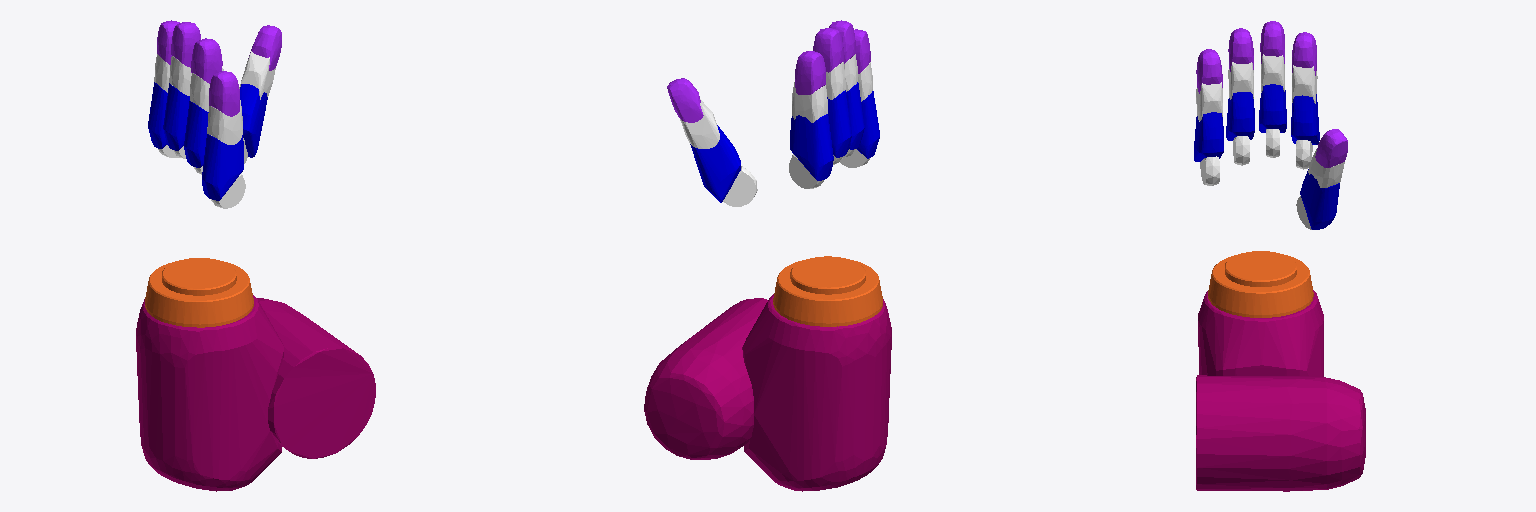
--- Render facts (derived) ---
3 views of the same robot in one strip: view 1: azimuth 30°, elevation 25°; view 2: azimuth 150°, elevation 25°; view 3: azimuth 270°, elevation 25° (orthographic).
Model hithand with 30 links and 29 joints (27 revolute, 2 fixed), rooted at base, posed all joints at 0.
Links seen in each view (by area): view 1: link_6, link_7, Right_Little_Phaprox, Right_Thumb_Phaprox, Right_Middle_Phaprox, Right_Ring_Phaprox, Right_Little_Phadist, Right_Ring_Phadist, Right_Little_Phamed, Right_Middle_Phadist, Right_Thumb_Phamed, Right_Index_Phaprox (+5 smaller); view 2: link_6, link_7, Right_Index_Phaprox, Right_Thumb_Phaprox, Right_Middle_Phaprox, Right_Index_Phadist, Right_Thumb_Phadist, Right_Thumb_Phamed, Right_Index_Phamed, Right_Middle_Phadist, Right_Little_Phaprox, Right_Thumb_Basecover (+5 smaller); view 3: link_6, link_7, Right_Thumb_Phaprox, Right_Little_Phaprox, Right_Index_Phaprox, Right_Ring_Phaprox, Right_Middle_Phaprox, Right_Thumb_Phadist, Right_Little_Phadist, Right_Ring_Phadist, Right_Index_Phadist, Right_Middle_Phadist (+5 smaller).
Boxes of the visible links, x1,y1,x2,y2 form: link_6: (136, 295, 375, 491); link_7: (145, 258, 253, 327); Right_Little_Phaprox: (202, 134, 243, 200); Right_Thumb_Phaprox: (240, 84, 267, 157); Right_Middle_Phaprox: (163, 83, 189, 150); Right_Ring_Phaprox: (184, 101, 208, 167); Right_Little_Phadist: (209, 71, 239, 116); Right_Ring_Phadist: (191, 38, 222, 83); Right_Little_Phamed: (207, 100, 242, 144); Right_Middle_Phadist: (171, 22, 200, 67); Right_Thumb_Phamed: (239, 51, 275, 99); Right_Index_Phaprox: (148, 82, 167, 148); link_6: (644, 294, 891, 491); link_7: (773, 256, 882, 326); Right_Index_Phaprox: (790, 114, 833, 180); Right_Thumb_Phaprox: (690, 125, 740, 202); Right_Middle_Phaprox: (827, 90, 851, 157); Right_Index_Phadist: (795, 51, 825, 94); Right_Thumb_Phadist: (667, 78, 703, 122); Right_Thumb_Phamed: (680, 99, 719, 148); Right_Index_Phamed: (792, 82, 827, 122); Right_Middle_Phadist: (813, 28, 843, 72); Right_Little_Phaprox: (856, 91, 879, 158); Right_Thumb_Basecover: (723, 166, 757, 206); link_6: (1196, 290, 1365, 491); link_7: (1208, 251, 1313, 317); Right_Thumb_Phaprox: (1300, 169, 1339, 229); Right_Little_Phaprox: (1194, 112, 1223, 161); Right_Index_Phaprox: (1291, 94, 1319, 144); Right_Ring_Phaprox: (1226, 92, 1254, 140); Right_Middle_Phaprox: (1259, 84, 1286, 132); Right_Thumb_Phadist: (1315, 129, 1347, 167); Right_Little_Phadist: (1196, 49, 1222, 93); Right_Ring_Phadist: (1228, 28, 1253, 71); Right_Index_Phadist: (1292, 32, 1316, 75); Right_Middle_Phadist: (1260, 21, 1284, 63).
Bounding box of the posed robot: 0.1879 × 0.1467 × 0.4159 m (x, y, z).
22 mesh visuals loaded from 13 distinct referenced files (4 binary STL, 2 OBJ); not drawn: 7 (reference not matched to a file when rendering).

robot.urdf — hithand:
<?xml version="1.0" encoding="utf-8"?>
<!-- =================================================================================== -->
<!-- |    This document was autogenerated by xacro from src/hithand_description/urdf/hithand.urdf.xacro | -->
<!-- |    EDITING THIS FILE BY HAND IS NOT RECOMMENDED                                 | -->
<!-- =================================================================================== -->
<robot name="hithand">


  <material name="white">
    <color rgba="1.0 1.0 1.0 1.0"/>
  </material>

  <material name="lightblue">
    <color rgba="0.0 0.0 1.0 1.0"/>
  </material>

  <material name="random">
    <color rgba="0.7 0.2 1.0 1.0"/>
  </material>

  <material name="grey">
    <color rgba="0.0 1.0 1.0 1.0"/>
  </material>

  <material name="purple">
    <color rgba="0.929 0.176 0.918 1.0"/>
  </material>

  <material name="orange">
    <color rgba="0.969 0.459 0.18 1.0"/>
  </material>

  <material name="dark_pink">
    <color rgba="0.69 0.047 0.463 1.0"/>
  </material>

  <material name="dark_yellow">
    <color rgba="1 0.87 0 1.0"/>
  </material>

  <material name="forest_green">
    <color rgba="0.208 0.51 0.122 1.0"/>
  </material>

  <material name="lime">
    <color rgba="0.749 1.0 0.0 1.0"/>
  </material>

  <material name="diyyu">
    <color rgba="0.255 0.278 0.502 1.0"/>
  </material>

  <material name="diyyu">
    <color rgba="0.255 0.278 0.502 1.0"/>
  </material>

  <!--DIANA 7 -->
 <link
    name="base">
    <inertial>
      <origin
        xyz="0.00153097191906452 0.00152031034664837 0.0524230280849149"
        rpy="0 0 0" />
      <mass
        value="1.33110743457779" />
      <inertia
        ixx="0.00695879790529406"
        ixy="9.99328685258342E-05"
        ixz="7.99577031212481E-05"
        iyy="0.00695365531716522"
        iyz="7.90796997368543E-05"
        izz="0.00729823323321907" />
    </inertial>
    <visual>
      <origin
        xyz="0 0 0"
        rpy="0 0 0" />
      <geometry>
        <mesh
          filename="./meshes/visual/obj/base.obj" />
      </geometry>
      <material
        name="">
        <color
          rgba="0.796078431372549 0.823529411764706 0.937254901960784 1" />
      </material>
    </visual>
    <collision>
      <origin
        xyz="0 0 0"
        rpy="0 0 0" />
      <geometry>
        <mesh
          filename="./meshes/collision/base.obj" />
      </geometry>
    </collision>
  </link>
  <joint
    name="joint_1"
    type="revolute">
    <origin
      xyz="0.0 -1.17155078368e-10 0.2856"
      rpy="-3.1415926531795866 0.0 -0.0" />
    <parent
      link="base" />
    <child
      link="link_1" />
    <axis
      xyz="0 0 1" />
    <limit
      lower="-3.12"
      upper="3.12"
      effort="235"
      velocity="2.618" />
  </joint>
  <link
    name="link_1">
    <inertial>
      <origin
        xyz="5.5234067920554E-05  -0.0254878204920178 0.0355441421264809"
        rpy="0 0 0" />
      <mass
        value="1.09025546409174" />
      <inertia
        ixx="0.00585031196428369"
        ixy="1.4630349447555E-07"
        ixz="1.35351687162397E-06"
        iyy="0.00645496952227061"
        iyz="-0.00104800484741808"
        izz="0.00459531291521244" />
    </inertial>
    <visual>
      <origin
        xyz="0 0 0"
        rpy="3.1415926531795866 0 0" />
      <geometry>
        <mesh
          filename="./meshes/visual/obj/link_1.obj" />
      </geometry>
      <material name="lime"/>
    </visual>
    <collision>
      <origin
        xyz="0 0 0"
        rpy="3.1415926531795866 0 0" />
      <geometry>
        <mesh
          filename="./meshes/collision/link_1.obj" />
      </geometry>
    </collision>
  </link>
  <joint
    name="joint_2"
    type="revolute">
    <origin
      xyz="-0.0002176275284 -2.18205115154e-05 8.97224123713e-09"
      rpy="1.5703851426777635 -0.0012519417971657146 5.147784771073438e-07" />
    <parent
      link="link_1" />
    <child
      link="link_2" />
    <axis
      xyz="0 0 1" />
    <limit
      lower="-1.57"
      upper="1.57"
      effort="235"
      velocity="2.618" />
  </joint>
  <link
    name="link_2">
    <inertial>
      <origin
        xyz="-3.62724763868157E-06 -0.0292741005087307 -0.041280769252073"
        rpy="0 0 0" />
      <mass
        value="1.09515454908799" />
      <inertia
        ixx="0.00575817488413533"
        ixy="4.92454490330888E-07"
        ixz="-5.75758988171004E-07"
        iyy="0.00452592941277235"
        iyz="0.00135206824645357"
        izz="0.0058904584276842" />
    </inertial>
    <visual>
      <origin
        xyz="0 0 0"
        rpy="0 0 0" />
      <geometry>
        <mesh
          filename="./meshes/visual/obj/link_2.obj" />
      </geometry>
      <material name="diyyu"/>
    </visual>
    <collision>
      <origin
        xyz="0 0 0"
        rpy="0 0 0" />
      <geometry>
        <mesh
          filename="./meshes/collision/link_2.obj" />
      </geometry>
    </collision>
  </link>
  <joint
    name="joint_3"
    type="revolute">
    <origin
      xyz="0.0004072688416 -0.459015056411 0.000194925439719"
      rpy="-1.571220988654708 -0.00279160624928537 1.1854872331797917e-06" />
    <parent
      link="link_2" />
    <child
      link="link_3" />
    <axis
      xyz="0 0 1" />
    <limit
      lower="-3.12"
      upper="3.12"
      effort="111"
      velocity="3.1416" />
  </joint>
  <link
    name="link_3">
    <inertial>
      <origin
        xyz="0.0114318213510691 -0.0101707598694861 0.15131695375217"
        rpy="0 3.1415926531795866 3.1415926531795866" />
      <mass
        value="2.01686690128149" />
      <inertia
        ixx="0.0362470020041464"
        ixy="-0.00099203786071914"
        ixz="-0.00494440140493448"
        iyy="0.0374857206758098"
        iyz="-0.00313859974095155"
        izz="0.00905850119342719" />
    </inertial>
    <visual>
      <origin
        xyz="0 0 0"
        rpy="3.1415926531795866 0 0" />
      <geometry>
        <mesh
          filename="./meshes/visual/obj/link_3.obj" />
      </geometry>
      <material name="forest_green"/>
    </visual>
    <collision>
      <origin
        xyz="0 0 0"
        rpy="3.1415926531795866 0 0" />
      <geometry>
        <mesh
          filename="./meshes/collision/link_3.obj" />
      </geometry>
    </collision>
  </link>
  <joint
    name="joint_4"
    type="revolute">
    <origin
      xyz="0.06500794501 0.000103518147087 1.93732356492e-08"
      rpy="1.5709834818249642 0.008540154910439246 1.598313538907085e-06" />
    <parent
      link="link_3" />
    <child
      link="link_4" />
    <axis
      xyz="0 0 1" />
    <limit
      lower="0"
      upper="3.05"
      effort="111"
      velocity="3.1416" />
  </joint>
  <link
    name="link_4">
    <inertial>
      <origin
        xyz="-0.0240716370537192 -0.0235631728011761 -0.0366858174253844"
        rpy="0 0 0" />
      <mass
        value="0.849743349506889" />
      <inertia
        ixx="0.00313444335639628"
        ixy="-0.000681243351041131"
        ixz="0.000725380047812207"
        iyy="0.00333717642442852"
        iyz="0.000771057559109157"
        izz="0.0034847726349841" />
    </inertial>
    <visual>
      <origin
        xyz="0 0 0"
        rpy="0 0 0" />
      <geometry>
        <mesh
          filename="./meshes/visual/obj/link_4.obj" />
      </geometry>
      <material name="dark_yellow"/>
    </visual>
    <collision>
      <origin
        xyz="0 0 0"
        rpy="0 0 0" />
      <geometry>
        <mesh
          filename="./meshes/collision/link_4.obj" />
      </geometry>
    </collision>
  </link>
  <joint
    name="joint_5"
    type="revolute">
    <origin
      xyz="-0.05295089994 -0.455500545868 0.000686638534383"
      rpy="-1.572303766948931 0.0022889413393391476 -3.4504416857473587e-06" />
    <parent
      link="link_4" />
    <child
      link="link_5" />
    <axis
      xyz="0 0 1" />
    <limit
      lower="-3.12"
      upper="3.12"
      effort="54"
      velocity="2.618" />
  </joint>v
  <link
    name="link_5">
    <inertial>
      <origin
        xyz="-0.00867148011164554 0.0383499684802812 0.188626"
        rpy="0 3.1415926531795866 3.1415926531795866" />
      <mass
        value="1.20580396965245" />
      <inertia
        ixx="0.0218436427570802"
        ixy="-0.000309747330693722"
        ixz="0.00089039094846826"
        iyy="0.0205896836785318"
        iyz="0.00493573923914426"
        izz="0.00372270106038425" />
    </inertial>
    <visual>
      <origin
        xyz="0 0 -0.02162"
        rpy="3.1415926531795866 0 0" />
      <geometry>
        <mesh
          filename="./meshes/visual/obj/link_5.obj" />
      </geometry>
      <material name="purple"/>
    </visual>
    <collision>
      <origin
        xyz="0 0 -0.02162"
        rpy="3.1415926531795866 0 0" />
      <geometry>
        <mesh
          filename="./meshes/collision/link_5.obj" />
      </geometry>
    </collision>
  </link>
  <joint
    name="joint_6"
    type="revolute">
    <origin
      xyz="-0.01210201229 7.41738015685e-05 -1.37878866505e-08"
      rpy="1.5709822134347438 0.0021627565524277212 -3.1415922515625536" />
    <parent
      link="link_5" />
    <child
      link="link_6" />
    <axis
      xyz="0 0 1" />
    <limit
      lower="-3.12"
      upper="0.52"
      effort="54"
      velocity="2.618" />
  </joint>
  <link
    name="link_6">
    <inertial>
      <origin
        xyz="0.045897226241036 0.00848579821002571 -0.0078257811617596"
        rpy="0 3.1415926531795866 3.1415926531795866" />
      <mass
        value="0.847157564562275" />
      <inertia
        ixx="0.00286926864109097"
        ixy="-0.000341664135091818"
        ixz="-0.000318082297486923"
        iyy="0.0043294660443987"
        iyz="-5.82962380662208E-05"
        izz="0.00437292566725527" />
    </inertial>
    <visual>
      <origin
        xyz="0 0 0"
        rpy="3.1415926531795866 0 3.14159265359" />
      <geometry>
        <mesh
          filename="./meshes/visual/obj/link_6.obj" />
      </geometry>
      <material name="dark_pink"/>
    </visual>
    <collision>
      <origin
        xyz="0 0 0"
        rpy="3.1415926531795866 0 3.14159265359" />
      <geometry>
        <mesh
          filename="./meshes/collision/link_6.obj" />
      </geometry>
    </collision>
  </link>
  <joint
    name="joint_7"
    type="revolute">
    <origin
      xyz="0.08675887782 -0.116899805485 0.000213254730695"
      rpy="-1.572620577 0.0 -0.0" />
    <parent
      link="link_6" />
    <child
      link="link_7" />
    <axis
      xyz="0 0 1" />
    <limit
      lower="-3.12"
      upper="3.12"
      effort="54"
      velocity="3.1416" />
  </joint>
  <link
    name="link_7">
    <inertial>
      <origin
        xyz="0.00117005127509708 5.03191940906655E-06 0.0151381784822231"
        rpy="0 0 0" />
      <mass
        value="0.233956150459573" />
      <inertia
        ixx="0.000142027360977168"
        ixy="1.76426389345981E-08"
        ixz="2.14635741626268E-07"
        iyy="0.000134421724783865"
        iyz="-1.29988689037464E-09"
        izz="0.000240242798572463" />
    </inertial>
    <visual>
      <origin
        xyz="0 0 0"
        rpy="0 0 0" />
      <geometry>
        <mesh
          filename="./meshes/visual/obj/link_7.obj" />
      </geometry>
      <material name="orange"/>
    </visual>
    <collision>
      <origin
        xyz="0 0 0"
        rpy="0 0 0" />
      <geometry>
        <mesh
          filename="./meshes/collision/link_7.obj" />
      </geometry>
    </collision>
  </link>
  <!--AR HAND -->
  <joint name="fixed" type="fixed">
    <parent link="link_7"/>
    <child link="base_link_hithand"/>
    <origin rpy="0 3.14 0" xyz="0 0 0"/>
  </joint>
  <!-- ++++ Define all the links and joints ++++ -->
  <!-- Starting from the base -->
  <link name="base_link_hithand">
    <inertial>
      <origin rpy="0 0 0" xyz="0.0112 0.0 0.0566"/>
      <mass value="1.1485"/>
      <inertia ixx="2.2458e-3" ixy="-2.7421e-4" ixz="1.6e-5" iyy="2.2203e-3" iyz="-6.37e-5" izz="1.9003e-3"/>
    </inertial>
    <visual>
      <origin rpy="-1.57 0 0" xyz="0 0 0"/>
      <geometry>
        <mesh filename="./meshes/collision/palm/right_palm.stl"/>
      </geometry>
      <material name="grey"/>
    </visual>
    <collision>
      <origin rpy="-1.57 0 0" xyz="0 0 0"/>
      <geometry>
        <mesh filename="./meshes/collision/palm/right_palm.stl"/>
      </geometry>
    </collision>
  </link>
  <!-- Add a virtual palm link to get the transform of this point via TF for grasping (we align this frame with
        a normal of a point from an object point cloud.) -->
  <joint name="hithand_palm_joint" type="fixed">
    <parent link="base_link_hithand"/>
    <child link="palm_link_hithand"/>
    <origin rpy="-0.15 -1.3 0" xyz="0.02 0 0.06"/>
  </joint>
  <link name="palm_link_hithand"/>
  <!-- #########################FINGER######################## -->
  <!-- END of finger macro -->
  <!-- +++++ Finger base joint 0 ++++++ -->
  <joint name="Right_Thumb_0" type="revolute">
    <!-- joint origin in parent link frame -->
    <origin rpy="0.225810 -1.083656 0.411355" xyz="0.06217593 0.044372912 0.078734808"/>
    <parent link="base_link_hithand"/>
    <child link="Right_Thumb_Basecover"/>
    <axis xyz="0 0 1"/>
    <limit effort="15" lower="-0.261799" upper="0.261799" velocity="3.14"/>
    <dynamics damping="0.5" friction="0"/>
  </joint>
  <link name="Right_Thumb_Basecover">
    <inertial>
      <origin rpy="0 0 0" xyz="0.02749 0 0"/>
      <mass value="0.0176"/>
      <inertia ixx="1.3450e-6" ixy="0.0" ixz="-1.8183e-7" iyy="1.9874e-6" iyz="0.0" izz="1.0419e-6"/>
    </inertial>
    <visual>
      <origin rpy="0 0 0" xyz="0 0 0"/>
      <geometry>
        <mesh filename="./meshes/collision/finger/hit-hand-2-finger-basecover.stl"/>
      </geometry>
      <material name="white"/>
    </visual>
    <collision>
      <origin rpy="0 0 0" xyz="0 0 0"/>
      <geometry name="hithand_Thumb_base_cover">
        <cylinder length="0.001" radius="0.001"/>
      </geometry>
    </collision>
  </link>
  <!-- +++++ Finger joint 1, Link: Phalanx proximalis ++++++ -->
  <joint name="Right_Thumb_1" type="revolute">
    <origin rpy="1.5708 0 0" xyz="0 0 0 "/>
    <parent link="Right_Thumb_Basecover"/>
    <child link="Right_Thumb_Phaprox"/>
    <axis xyz="0 0 1"/>
    <limit effort="1.15" lower="0.0" upper="1.48353" velocity="3.14"/>
    <!-- Effort limit based on max fingertip force of 10N. Finger tip is approx 11.5cm away from this joint.-->
    <dynamics damping="0.5" friction="0"/>
  </joint>
  <link name="Right_Thumb_Phaprox">
    <inertial>
      <origin rpy="0 0 0" xyz="0.03076 0.00297 0"/>
      <mass value="0.0232"/>
      <inertia ixx="2.5326e-6" ixy="-9.2551e-7" ixz="-4.0954e-8" iyy="6.9625e-6" iyz="-9.38e-9" izz="7.9108e-6"/>
    </inertial>
    <visual>
      <origin rpy="0 0 0" xyz="0 0 0"/>
      <geometry>
        <mesh filename="./meshes/collision/finger/hit-hand-2-finger-phaprox.stl"/>
      </geometry>
      <material name="lightblue"/>
    </visual>
    <collision>
      <origin rpy="0 0 0" xyz="0 0 0"/>
      <geometry>
        <mesh filename="./meshes/collision/finger/hit-hand-2-finger-phaprox.stl"/>
      </geometry>
    </collision>
  </link>
  <!-- +++++ Finger joint 2 Phalanx medialis ++++++ -->
  <joint name="Right_Thumb_2" type="revolute">
    <origin rpy="0 0 0" xyz="0.055 0 0"/>
    <parent link="Right_Thumb_Phaprox"/>
    <child link="Right_Thumb_Phamed"/>
    <axis xyz="0 0 1"/>
    <limit effort="0.6" lower="0.0" upper="1.13446" velocity="3.14"/>
    <!-- Effort limit based on max fingertip force of 10N. Finger tip is approx 6cm away from this joint.-->
    <dynamics damping="0.5" friction="0"/>
  </joint>
  <link name="Right_Thumb_Phamed">
    <inertial>
      <origin rpy="0 0 0" xyz="0.0097 -0.00036 0"/>
      <mass value="0.0158"/>
      <inertia ixx="1.1852e-6" ixy="-2.8845e-8" ixz="-6.1323e-9" iyy="2.4460e-6" iyz="2.4541e-9" izz="2.6537e-6"/>
    </inertial>
    <visual>
      <origin rpy="0 0 0" xyz="0 0 0"/>
      <geometry>
        <mesh filename="./meshes/collision/finger/hit-hand-2-finger-phamed.stl"/>
      </geometry>
      <material name="white"/>
    </visual>
    <collision>
      <origin rpy="0 0 0" xyz="0 0 0"/>
      <geometry>
        <mesh filename="./meshes/collision/finger/hit-hand-2-finger-phamed.stl"/>
      </geometry>
    </collision>
  </link>
  <!-- +++++ Finger joint 3 Phalanx distalis ++++++ -->
  <joint name="Right_Thumb_3" type="revolute">
    <origin rpy="0 0 -1.570796" xyz="0.025 0 0"/>
    <parent link="Right_Thumb_Phamed"/>
    <child link="Right_Thumb_Phadist"/>
    <axis xyz="0 0 1"/>
    <limit effort="0.35" lower="0.0" upper="1.13446" velocity="3.14"/>
    <!-- Effort limit based on max fingertip force of 10N. Finger tip is approx 3.5cm away from this joint.-->
    <dynamics damping="0.5" friction="0"/>
  </joint>
  <link name="Right_Thumb_Phadist">
    <inertial>
      <origin rpy="0 0 0" xyz="0.00072 0.00717 0.0"/>
      <mass value="0.0137"/>
      <inertia ixx="1.5519e-6" ixy="-2.037e-9" ixz="0.0" iyy="8.2972e-7" iyz="3.77e-9" izz="1.5788e-6"/>
    </inertial>
    <visual>
      <origin rpy="0 0 0" xyz="0 0 0"/>
      <geometry>
        <mesh filename="./meshes/collision/finger/hit-hand-2-finger-phadist.stl"/>
      </geometry>
      <material name="random"/>
    </visual>
    <collision>
      <origin rpy="0 0 0" xyz="0 0 0"/>
      <geometry>
        <mesh filename="./meshes/collision/finger/hit-hand-2-finger-phadist.stl"/>
      </geometry>
    </collision>
  </link>
  <!-- +++++ Finger base joint 0 ++++++ -->
  <joint name="Right_Index_0" type="revolute">
    <!-- joint origin in parent link frame -->
    <origin rpy="3.054326 -1.570796 0.000000" xyz="-0.002529881 0.03680013 0.107783545"/>
    <parent link="base_link_hithand"/>
    <child link="Right_Index_Basecover"/>
    <axis xyz="0 0 1"/>
    <limit effort="15" lower="-0.261799" upper="0.261799" velocity="3.14"/>
    <dynamics damping="0.5" friction="0"/>
  </joint>
  <link name="Right_Index_Basecover">
    <inertial>
      <origin rpy="0 0 0" xyz="0.02749 0 0"/>
      <mass value="0.0176"/>
      <inertia ixx="1.3450e-6" ixy="0.0" ixz="-1.8183e-7" iyy="1.9874e-6" iyz="0.0" izz="1.0419e-6"/>
    </inertial>
    <visual>
      <origin rpy="0 0 0" xyz="0 0 0"/>
      <geometry>
        <mesh filename="./meshes/collision/finger/hit-hand-2-finger-basecover.stl"/>
      </geometry>
      <material name="white"/>
    </visual>
    <collision>
      <origin rpy="0 0 0" xyz="0 0 0"/>
      <geometry name="hithand_Index_base_cover">
        <cylinder length="0.001" radius="0.001"/>
      </geometry>
    </collision>
  </link>
  <!-- +++++ Finger joint 1, Link: Phalanx proximalis ++++++ -->
  <joint name="Right_Index_1" type="revolute">
    <origin rpy="1.5708 0 0" xyz="0 0 0 "/>
    <parent link="Right_Index_Basecover"/>
    <child link="Right_Index_Phaprox"/>
    <axis xyz="0 0 1"/>
    <limit effort="1.15" lower="0.0" upper="1.48353" velocity="3.14"/>
    <!-- Effort limit based on max fingertip force of 10N. Finger tip is approx 11.5cm away from this joint.-->
    <dynamics damping="0.5" friction="0"/>
  </joint>
  <link name="Right_Index_Phaprox">
    <inertial>
      <origin rpy="0 0 0" xyz="0.03076 0.00297 0"/>
      <mass value="0.0232"/>
      <inertia ixx="2.5326e-6" ixy="-9.2551e-7" ixz="-4.0954e-8" iyy="6.9625e-6" iyz="-9.38e-9" izz="7.9108e-6"/>
    </inertial>
    <visual>
      <origin rpy="0 0 0" xyz="0 0 0"/>
      <geometry>
        <mesh filename="./meshes/collision/finger/hit-hand-2-finger-phaprox.stl"/>
      </geometry>
      <material name="lightblue"/>
    </visual>
    <collision>
      <origin rpy="0 0 0" xyz="0 0 0"/>
      <geometry>
        <mesh filename="./meshes/collision/finger/hit-hand-2-finger-phaprox.stl"/>
      </geometry>
    </collision>
  </link>
  <!-- +++++ Finger joint 2 Phalanx medialis ++++++ -->
  <joint name="Right_Index_2" type="revolute">
    <origin rpy="0 0 0" xyz="0.055 0 0"/>
    <parent link="Right_Index_Phaprox"/>
    <child link="Right_Index_Phamed"/>
    <axis xyz="0 0 1"/>
    <limit effort="0.6" lower="0.0" upper="1.13446" velocity="3.14"/>
    <!-- Effort limit based on max fingertip force of 10N. Finger tip is approx 6cm away from this joint.-->
    <dynamics damping="0.5" friction="0"/>
  </joint>
  <link name="Right_Index_Phamed">
    <inertial>
      <origin rpy="0 0 0" xyz="0.0097 -0.00036 0"/>
      <mass value="0.0158"/>
      <inertia ixx="1.1852e-6" ixy="-2.8845e-8" ixz="-6.1323e-9" iyy="2.4460e-6" iyz="2.4541e-9" izz="2.6537e-6"/>
    </inertial>
    <visual>
      <origin rpy="0 0 0" xyz="0 0 0"/>
      <geometry>
        <mesh filename="./meshes/collision/finger/hit-hand-2-finger-phamed.stl"/>
      </geometry>
      <material name="white"/>
    </visual>
    <collision>
      <origin rpy="0 0 0" xyz="0 0 0"/>
      <geometry>
        <mesh filename="./meshes/collision/finger/hit-hand-2-finger-phamed.stl"/>
      </geometry>
    </collision>
  </link>
  <!-- +++++ Finger joint 3 Phalanx distalis ++++++ -->
  <joint name="Right_Index_3" type="revolute">
    <origin rpy="0 0 -1.570796" xyz="0.025 0 0"/>
    <parent link="Right_Index_Phamed"/>
    <child link="Right_Index_Phadist"/>
    <axis xyz="0 0 1"/>
    <limit effort="0.35" lower="0.0" upper="1.13446" velocity="3.14"/>
    <!-- Effort limit based on max fingertip force of 10N. Finger tip is approx 3.5cm away from this joint.-->
    <dynamics damping="0.5" friction="0"/>
  </joint>
  <link name="Right_Index_Phadist">
    <inertial>
      <origin rpy="0 0 0" xyz="0.00072 0.00717 0.0"/>
      <mass value="0.0137"/>
      <inertia ixx="1.5519e-6" ixy="-2.037e-9" ixz="0.0" iyy="8.2972e-7" iyz="3.77e-9" izz="1.5788e-6"/>
    </inertial>
    <visual>
      <origin rpy="0 0 0" xyz="0 0 0"/>
      <geometry>
        <mesh filename="./meshes/collision/finger/hit-hand-2-finger-phadist.stl"/>
      </geometry>
      <material name="random"/>
    </visual>
    <collision>
      <origin rpy="0 0 0" xyz="0 0 0"/>
      <geometry>
        <mesh filename="./meshes/collision/finger/hit-hand-2-finger-phadist.stl"/>
      </geometry>
    </collision>
  </link>
  <!-- +++++ Finger base joint 0 ++++++ -->
  <joint name="Right_Middle_0" type="revolute">
    <!-- joint origin in parent link frame -->
    <origin rpy="-3.141593 -1.570796 0.000000" xyz="-0.0037 0.01  0.117783545"/>
    <parent link="base_link_hithand"/>
    <child link="Right_Middle_Basecover"/>
    <axis xyz="0 0 1"/>
    <limit effort="15" lower="-0.261799" upper="0.261799" velocity="3.14"/>
    <dynamics damping="0.5" friction="0"/>
  </joint>
  <link name="Right_Middle_Basecover">
    <inertial>
      <origin rpy="0 0 0" xyz="0.02749 0 0"/>
      <mass value="0.0176"/>
      <inertia ixx="1.3450e-6" ixy="0.0" ixz="-1.8183e-7" iyy="1.9874e-6" iyz="0.0" izz="1.0419e-6"/>
    </inertial>
    <visual>
      <origin rpy="0 0 0" xyz="0 0 0"/>
      <geometry>
        <mesh filename="./meshes/collision/finger/hit-hand-2-finger-basecover.stl"/>
      </geometry>
      <material name="white"/>
    </visual>
    <collision>
      <origin rpy="0 0 0" xyz="0 0 0"/>
      <geometry name="hithand_Middle_base_cover">
        <cylinder length="0.001" radius="0.001"/>
      </geometry>
    </collision>
  </link>
  <!-- +++++ Finger joint 1, Link: Phalanx proximalis ++++++ -->
  <joint name="Right_Middle_1" type="revolute">
    <origin rpy="1.5708 0 0" xyz="0 0 0 "/>
    <parent link="Right_Middle_Basecover"/>
    <child link="Right_Middle_Phaprox"/>
    <axis xyz="0 0 1"/>
    <limit effort="1.15" lower="0.0" upper="1.48353" velocity="3.14"/>
    <!-- Effort limit based on max fingertip force of 10N. Finger tip is approx 11.5cm away from this joint.-->
    <dynamics damping="0.5" friction="0"/>
  </joint>
  <link name="Right_Middle_Phaprox">
    <inertial>
      <origin rpy="0 0 0" xyz="0.03076 0.00297 0"/>
      <mass value="0.0232"/>
      <inertia ixx="2.5326e-6" ixy="-9.2551e-7" ixz="-4.0954e-8" iyy="6.9625e-6" iyz="-9.38e-9" izz="7.9108e-6"/>
    </inertial>
    <visual>
      <origin rpy="0 0 0" xyz="0 0 0"/>
      <geometry>
        <mesh filename="./meshes/collision/finger/hit-hand-2-finger-phaprox.stl"/>
      </geometry>
      <material name="lightblue"/>
    </visual>
    <collision>
      <origin rpy="0 0 0" xyz="0 0 0"/>
      <geometry>
        <mesh filename="./meshes/collision/finger/hit-hand-2-finger-phaprox.stl"/>
      </geometry>
    </collision>
  </link>
  <!-- +++++ Finger joint 2 Phalanx medialis ++++++ -->
  <joint name="Right_Middle_2" type="revolute">
    <origin rpy="0 0 0" xyz="0.055 0 0"/>
    <parent link="Right_Middle_Phaprox"/>
    <child link="Right_Middle_Phamed"/>
    <axis xyz="0 0 1"/>
    <limit effort="0.6" lower="0.0" upper="1.13446" velocity="3.14"/>
    <!-- Effort limit based on max fingertip force of 10N. Finger tip is approx 6cm away from this joint.-->
    <dynamics damping="0.5" friction="0"/>
  </joint>
  <link name="Right_Middle_Phamed">
    <inertial>
      <origin rpy="0 0 0" xyz="0.0097 -0.00036 0"/>
      <mass value="0.0158"/>
      <inertia ixx="1.1852e-6" ixy="-2.8845e-8" ixz="-6.1323e-9" iyy="2.4460e-6" iyz="2.4541e-9" izz="2.6537e-6"/>
    </inertial>
    <visual>
      <origin rpy="0 0 0" xyz="0 0 0"/>
      <geometry>
        <mesh filename="./meshes/collision/finger/hit-hand-2-finger-phamed.stl"/>
      </geometry>
      <material name="white"/>
    </visual>
    <collision>
      <origin rpy="0 0 0" xyz="0 0 0"/>
      <geometry>
        <mesh filename="./meshes/collision/finger/hit-hand-2-finger-phamed.stl"/>
      </geometry>
    </collision>
  </link>
  <!-- +++++ Finger joint 3 Phalanx distalis ++++++ -->
  <joint name="Right_Middle_3" type="revolute">
    <origin rpy="0 0 -1.570796" xyz="0.025 0 0"/>
    <parent link="Right_Middle_Phamed"/>
    <child link="Right_Middle_Phadist"/>
    <axis xyz="0 0 1"/>
    <limit effort="0.35" lower="0.0" upper="1.13446" velocity="3.14"/>
    <!-- Effort limit based on max fingertip force of 10N. Finger tip is approx 3.5cm away from this joint.-->
    <dynamics damping="0.5" friction="0"/>
  </joint>
  <link name="Right_Middle_Phadist">
    <inertial>
      <origin rpy="0 0 0" xyz="0.00072 0.00717 0.0"/>
      <mass value="0.0137"/>
      <inertia ixx="1.5519e-6" ixy="-2.037e-9" ixz="0.0" iyy="8.2972e-7" iyz="3.77e-9" izz="1.5788e-6"/>
    </inertial>
    <visual>
      <origin rpy="0 0 0" xyz="0 0 0"/>
      <geometry>
        <mesh filename="./meshes/collision/finger/hit-hand-2-finger-phadist.stl"/>
      </geometry>
      <material name="random"/>
    </visual>
    <collision>
      <origin rpy="0 0 0" xyz="0 0 0"/>
      <geometry>
        <mesh filename="./meshes/collision/finger/hit-hand-2-finger-phadist.stl"/>
      </geometry>
    </collision>
  </link>
  <!-- +++++ Finger base joint 0 ++++++ -->
  <joint name="Right_Ring_0" type="revolute">
    <!-- joint origin in parent link frame -->
    <origin rpy="-3.054326 -1.570796 0.000000" xyz="0 -0.01680013 0.11258354"/>
    <parent link="base_link_hithand"/>
    <child link="Right_Ring_Basecover"/>
    <axis xyz="0 0 1"/>
    <limit effort="15" lower="-0.261799" upper="0.261799" velocity="3.14"/>
    <dynamics damping="0.5" friction="0"/>
  </joint>
  <link name="Right_Ring_Basecover">
    <inertial>
      <origin rpy="0 0 0" xyz="0.02749 0 0"/>
      <mass value="0.0176"/>
      <inertia ixx="1.3450e-6" ixy="0.0" ixz="-1.8183e-7" iyy="1.9874e-6" iyz="0.0" izz="1.0419e-6"/>
    </inertial>
    <visual>
      <origin rpy="0 0 0" xyz="0 0 0"/>
      <geometry>
        <mesh filename="./meshes/collision/finger/hit-hand-2-finger-basecover.stl"/>
      </geometry>
      <material name="white"/>
    </visual>
    <collision>
      <origin rpy="0 0 0" xyz="0 0 0"/>
      <geometry name="hithand_Ring_base_cover">
        <cylinder length="0.001" radius="0.001"/>
      </geometry>
    </collision>
  </link>
  <!-- +++++ Finger joint 1, Link: Phalanx proximalis ++++++ -->
  <joint name="Right_Ring_1" type="revolute">
    <origin rpy="1.5708 0 0" xyz="0 0 0 "/>
    <parent link="Right_Ring_Basecover"/>
    <child link="Right_Ring_Phaprox"/>
    <axis xyz="0 0 1"/>
    <limit effort="1.15" lower="0.0" upper="1.48353" velocity="3.14"/>
    <!-- Effort limit based on max fingertip force of 10N. Finger tip is approx 11.5cm away from this joint.-->
    <dynamics damping="0.5" friction="0"/>
  </joint>
  <link name="Right_Ring_Phaprox">
    <inertial>
      <origin rpy="0 0 0" xyz="0.03076 0.00297 0"/>
      <mass value="0.0232"/>
      <inertia ixx="2.5326e-6" ixy="-9.2551e-7" ixz="-4.0954e-8" iyy="6.9625e-6" iyz="-9.38e-9" izz="7.9108e-6"/>
    </inertial>
    <visual>
      <origin rpy="0 0 0" xyz="0 0 0"/>
      <geometry>
        <mesh filename="./meshes/collision/finger/hit-hand-2-finger-phaprox.stl"/>
      </geometry>
      <material name="lightblue"/>
    </visual>
    <collision>
      <origin rpy="0 0 0" xyz="0 0 0"/>
      <geometry>
        <mesh filename="./meshes/collision/finger/hit-hand-2-finger-phaprox.stl"/>
      </geometry>
    </collision>
  </link>
  <!-- +++++ Finger joint 2 Phalanx medialis ++++++ -->
  <joint name="Right_Ring_2" type="revolute">
    <origin rpy="0 0 0" xyz="0.055 0 0"/>
    <parent link="Right_Ring_Phaprox"/>
    <child link="Right_Ring_Phamed"/>
    <axis xyz="0 0 1"/>
    <limit effort="0.6" lower="0.0" upper="1.13446" velocity="3.14"/>
    <!-- Effort limit based on max fingertip force of 10N. Finger tip is approx 6cm away from this joint.-->
    <dynamics damping="0.5" friction="0"/>
  </joint>
  <link name="Right_Ring_Phamed">
    <inertial>
      <origin rpy="0 0 0" xyz="0.0097 -0.00036 0"/>
      <mass value="0.0158"/>
      <inertia ixx="1.1852e-6" ixy="-2.8845e-8" ixz="-6.1323e-9" iyy="2.4460e-6" iyz="2.4541e-9" izz="2.6537e-6"/>
    </inertial>
    <visual>
      <origin rpy="0 0 0" xyz="0 0 0"/>
      <geometry>
        <mesh filename="./meshes/collision/finger/hit-hand-2-finger-phamed.stl"/>
      </geometry>
      <material name="white"/>
    </visual>
    <collision>
      <origin rpy="0 0 0" xyz="0 0 0"/>
      <geometry>
        <mesh filename="./meshes/collision/finger/hit-hand-2-finger-phamed.stl"/>
      </geometry>
    </collision>
  </link>
  <!-- +++++ Finger joint 3 Phalanx distalis ++++++ -->
  <joint name="Right_Ring_3" type="revolute">
    <origin rpy="0 0 -1.570796" xyz="0.025 0 0"/>
    <parent link="Right_Ring_Phamed"/>
    <child link="Right_Ring_Phadist"/>
    <axis xyz="0 0 1"/>
    <limit effort="0.35" lower="0.0" upper="1.13446" velocity="3.14"/>
    <!-- Effort limit based on max fingertip force of 10N. Finger tip is approx 3.5cm away from this joint.-->
    <dynamics damping="0.5" friction="0"/>
  </joint>
  <link name="Right_Ring_Phadist">
    <inertial>
      <origin rpy="0 0 0" xyz="0.00072 0.00717 0.0"/>
      <mass value="0.0137"/>
      <inertia ixx="1.5519e-6" ixy="-2.037e-9" ixz="0.0" iyy="8.2972e-7" iyz="3.77e-9" izz="1.5788e-6"/>
    </inertial>
    <visual>
      <origin rpy="0 0 0" xyz="0 0 0"/>
      <geometry>
        <mesh filename="./meshes/collision/finger/hit-hand-2-finger-phadist.stl"/>
      </geometry>
      <material name="random"/>
    </visual>
    <collision>
      <origin rpy="0 0 0" xyz="0 0 0"/>
      <geometry>
        <mesh filename="./meshes/collision/finger/hit-hand-2-finger-phadist.stl"/>
      </geometry>
    </collision>
  </link>
  <!-- +++++ Finger base joint 0 ++++++ -->
  <joint name="Right_Little_0" type="revolute">
    <!-- joint origin in parent link frame -->
    <origin rpy="-2.967060 -1.570796 0.000000" xyz="0.000971571 -0.0433963 0.093583545"/>
    <parent link="base_link_hithand"/>
    <child link="Right_Little_Basecover"/>
    <axis xyz="0 0 1"/>
    <limit effort="15" lower="-0.261799" upper="0.261799" velocity="3.14"/>
    <dynamics damping="0.5" friction="0"/>
  </joint>
  <link name="Right_Little_Basecover">
    <inertial>
      <origin rpy="0 0 0" xyz="0.02749 0 0"/>
      <mass value="0.0176"/>
      <inertia ixx="1.3450e-6" ixy="0.0" ixz="-1.8183e-7" iyy="1.9874e-6" iyz="0.0" izz="1.0419e-6"/>
    </inertial>
    <visual>
      <origin rpy="0 0 0" xyz="0 0 0"/>
      <geometry>
        <mesh filename="./meshes/collision/finger/hit-hand-2-finger-basecover.stl"/>
      </geometry>
      <material name="white"/>
    </visual>
    <collision>
      <origin rpy="0 0 0" xyz="0 0 0"/>
      <geometry name="hithand_Little_base_cover">
        <cylinder length="0.001" radius="0.001"/>
      </geometry>
    </collision>
  </link>
  <!-- +++++ Finger joint 1, Link: Phalanx proximalis ++++++ -->
  <joint name="Right_Little_1" type="revolute">
    <origin rpy="1.5708 0 0" xyz="0 0 0 "/>
    <parent link="Right_Little_Basecover"/>
    <child link="Right_Little_Phaprox"/>
    <axis xyz="0 0 1"/>
    <limit effort="1.15" lower="0.0" upper="1.48353" velocity="3.14"/>
    <!-- Effort limit based on max fingertip force of 10N. Finger tip is approx 11.5cm away from this joint.-->
    <dynamics damping="0.5" friction="0"/>
  </joint>
  <link name="Right_Little_Phaprox">
    <inertial>
      <origin rpy="0 0 0" xyz="0.03076 0.00297 0"/>
      <mass value="0.0232"/>
      <inertia ixx="2.5326e-6" ixy="-9.2551e-7" ixz="-4.0954e-8" iyy="6.9625e-6" iyz="-9.38e-9" izz="7.9108e-6"/>
    </inertial>
    <visual>
      <origin rpy="0 0 0" xyz="0 0 0"/>
      <geometry>
        <mesh filename="./meshes/collision/finger/hit-hand-2-finger-phaprox.stl"/>
      </geometry>
      <material name="lightblue"/>
    </visual>
    <collision>
      <origin rpy="0 0 0" xyz="0 0 0"/>
      <geometry>
        <mesh filename="./meshes/collision/finger/hit-hand-2-finger-phaprox.stl"/>
      </geometry>
    </collision>
  </link>
  <!-- +++++ Finger joint 2 Phalanx medialis ++++++ -->
  <joint name="Right_Little_2" type="revolute">
    <origin rpy="0 0 0" xyz="0.055 0 0"/>
    <parent link="Right_Little_Phaprox"/>
    <child link="Right_Little_Phamed"/>
    <axis xyz="0 0 1"/>
    <limit effort="0.6" lower="0.0" upper="1.13446" velocity="3.14"/>
    <!-- Effort limit based on max fingertip force of 10N. Finger tip is approx 6cm away from this joint.-->
    <dynamics damping="0.5" friction="0"/>
  </joint>
  <link name="Right_Little_Phamed">
    <inertial>
      <origin rpy="0 0 0" xyz="0.0097 -0.00036 0"/>
      <mass value="0.0158"/>
      <inertia ixx="1.1852e-6" ixy="-2.8845e-8" ixz="-6.1323e-9" iyy="2.4460e-6" iyz="2.4541e-9" izz="2.6537e-6"/>
    </inertial>
    <visual>
      <origin rpy="0 0 0" xyz="0 0 0"/>
      <geometry>
        <mesh filename="./meshes/collision/finger/hit-hand-2-finger-phamed.stl"/>
      </geometry>
      <material name="white"/>
    </visual>
    <collision>
      <origin rpy="0 0 0" xyz="0 0 0"/>
      <geometry>
        <mesh filename="./meshes/collision/finger/hit-hand-2-finger-phamed.stl"/>
      </geometry>
    </collision>
  </link>
  <!-- +++++ Finger joint 3 Phalanx distalis ++++++ -->
  <joint name="Right_Little_3" type="revolute">
    <origin rpy="0 0 -1.570796" xyz="0.025 0 0"/>
    <parent link="Right_Little_Phamed"/>
    <child link="Right_Little_Phadist"/>
    <axis xyz="0 0 1"/>
    <limit effort="0.35" lower="0.0" upper="1.13446" velocity="3.14"/>
    <!-- Effort limit based on max fingertip force of 10N. Finger tip is approx 3.5cm away from this joint.-->
    <dynamics damping="0.5" friction="0"/>
  </joint>
  <link name="Right_Little_Phadist">
    <inertial>
      <origin rpy="0 0 0" xyz="0.00072 0.00717 0.0"/>
      <mass value="0.0137"/>
      <inertia ixx="1.5519e-6" ixy="-2.037e-9" ixz="0.0" iyy="8.2972e-7" iyz="3.77e-9" izz="1.5788e-6"/>
    </inertial>
    <visual>
      <origin rpy="0 0 0" xyz="0 0 0"/>
      <geometry>
        <mesh filename="./meshes/collision/finger/hit-hand-2-finger-phadist.stl"/>
      </geometry>
      <material name="random"/>
    </visual>
    <collision>
      <origin rpy="0 0 0" xyz="0 0 0"/>
      <geometry>
        <mesh filename="./meshes/collision/finger/hit-hand-2-finger-phadist.stl"/>
      </geometry>
    </collision>
  </link>
</robot>
